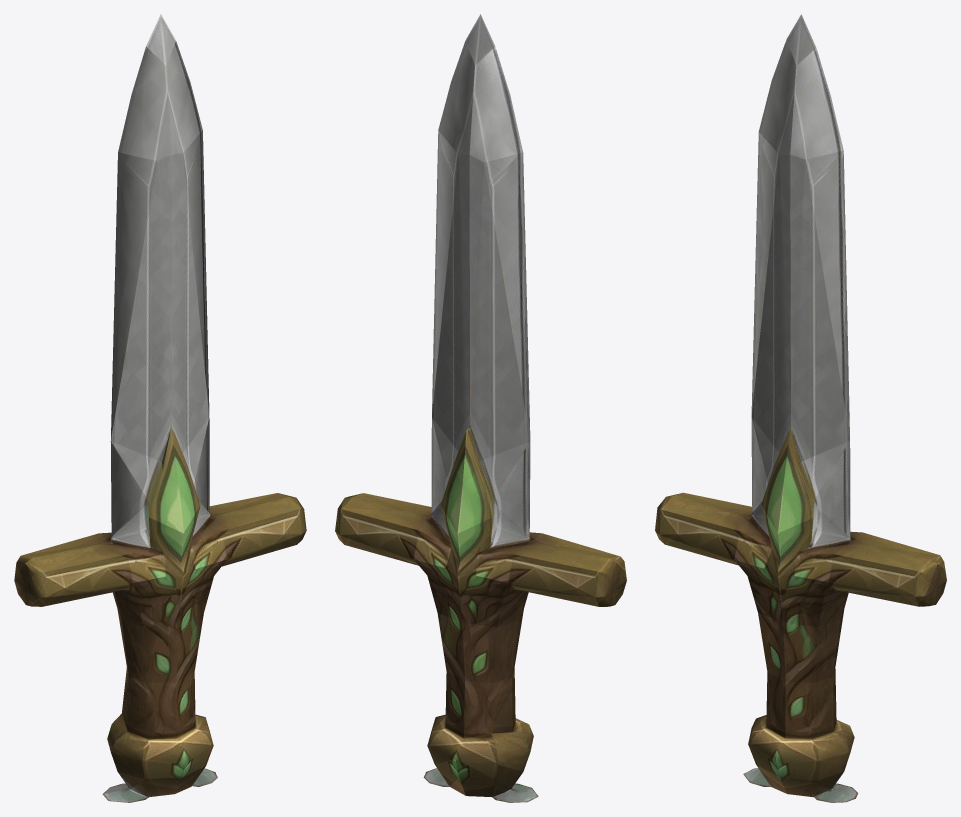
Rendered from sword_wildwood_w1a.glb.
3 views of the same model, side by side, from view 1: azimuth 30°, elevation 25°; view 2: azimuth 150°, elevation 25°; view 3: azimuth 330°, elevation 25° (orthographic).
Size of the model in its own units: 0.3691 by 1 by 0.1196.
Materials: 1 (1 with a texture image).
